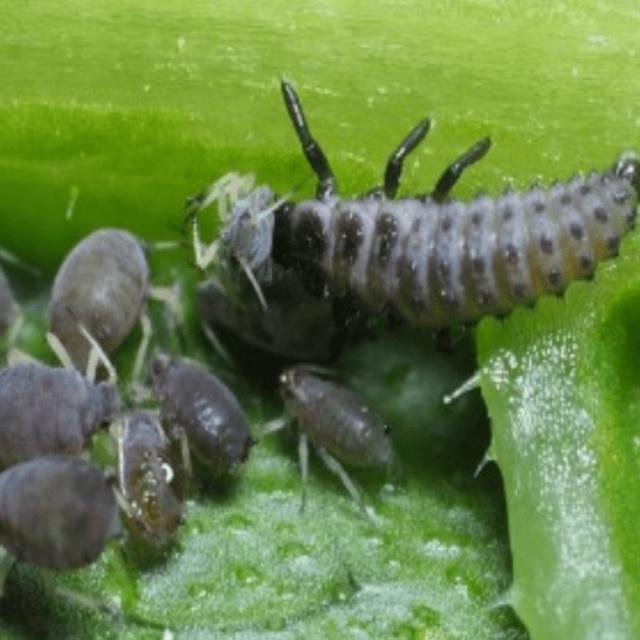Aphid-Grown-: (257, 358, 417, 508), (145, 330, 256, 482)
